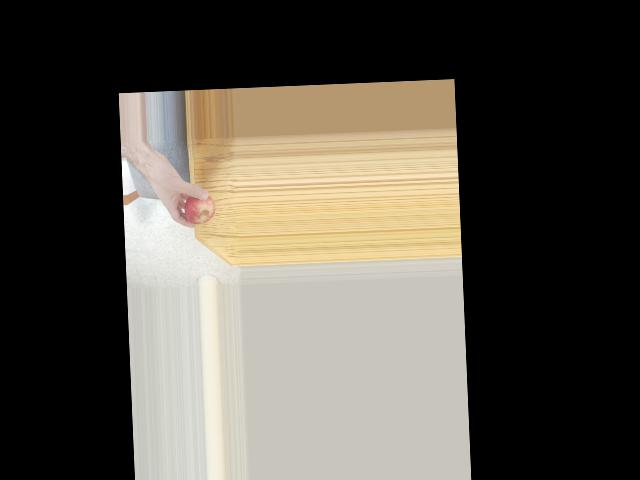apple: (183, 191, 214, 226)
